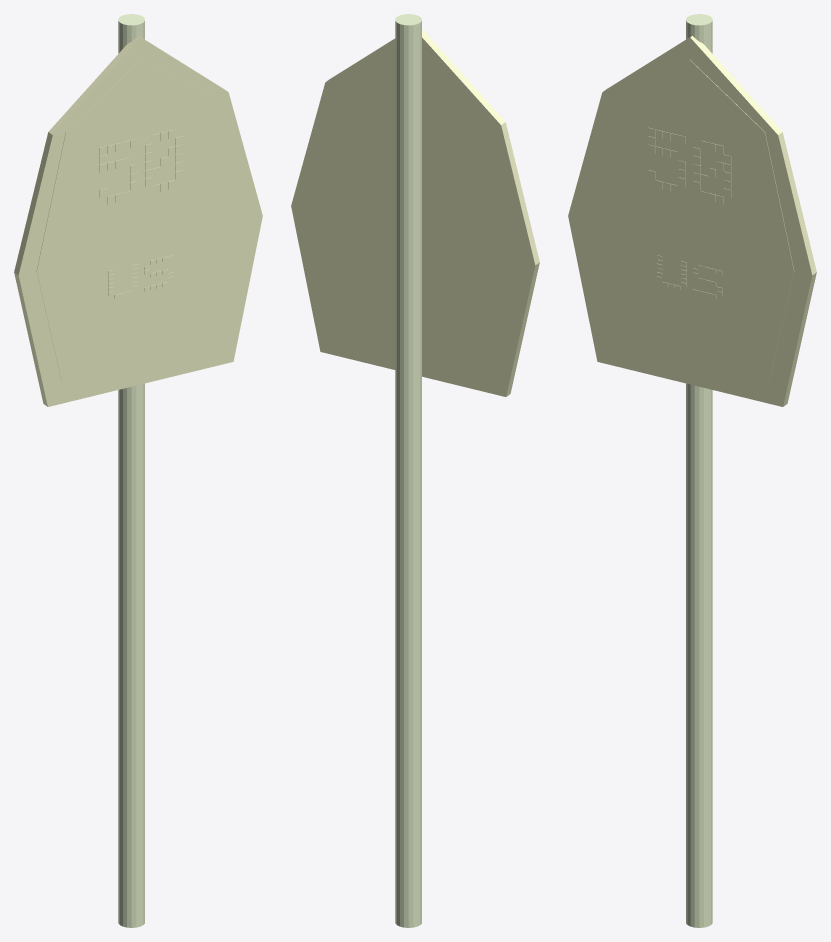
Rendered from sign_route_us_50_shield.glb.
The picture shows the model from 3 angles, left to right: view 1: azimuth 30°, elevation 25°; view 2: azimuth 150°, elevation 25°; view 3: azimuth 330°, elevation 25°; orthographic projection.
Visible parts, largest first — view 1: layer_1_00, plate_base_00, pole; view 2: plate_base_00, pole; view 3: layer_1_00, plate_base_00, pole.
Part boxes in pixels (bbox=[...]): layer_1_00: bbox=[36, 60, 245, 381]; plate_base_00: bbox=[14, 36, 262, 406]; pole: bbox=[118, 14, 144, 927]; plate_base_00: bbox=[291, 29, 539, 396]; pole: bbox=[395, 14, 421, 927]; layer_1_00: bbox=[585, 60, 794, 381]; plate_base_00: bbox=[568, 36, 816, 406]; pole: bbox=[686, 14, 712, 927].
Size of the model in its own units: 0.6232 by 2.2 by 0.0725.
